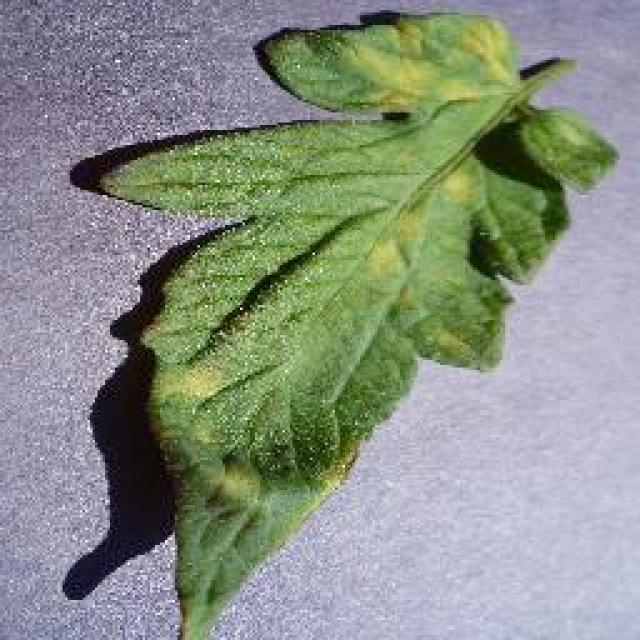Tomato mold leaf: (95, 13, 619, 637)
